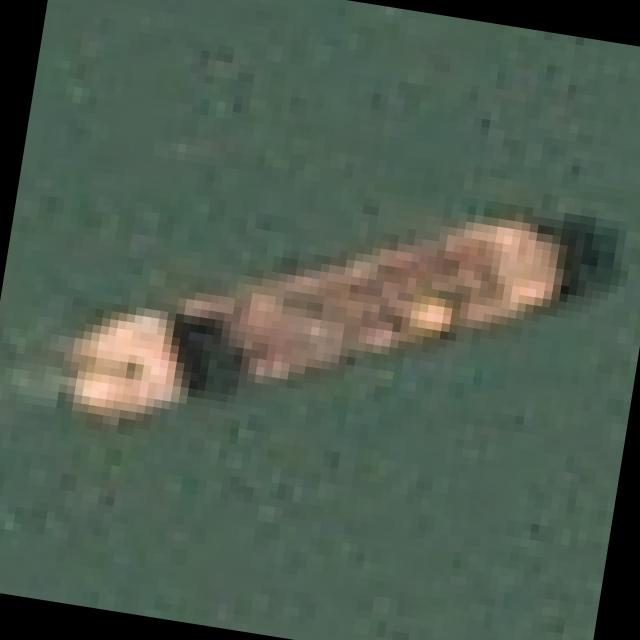ship: (41, 118, 608, 552)
